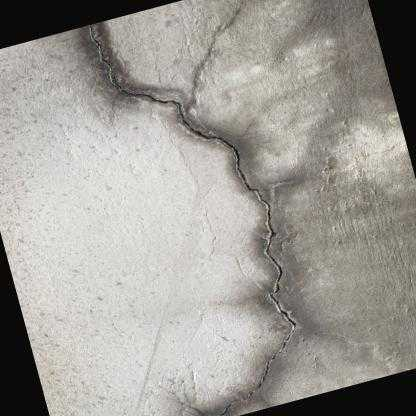crack: (86, 24, 297, 416)
